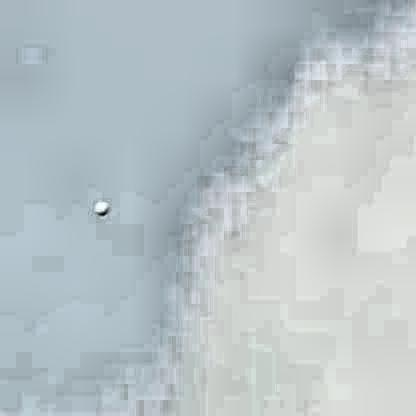golfball: (90, 200, 108, 216)
